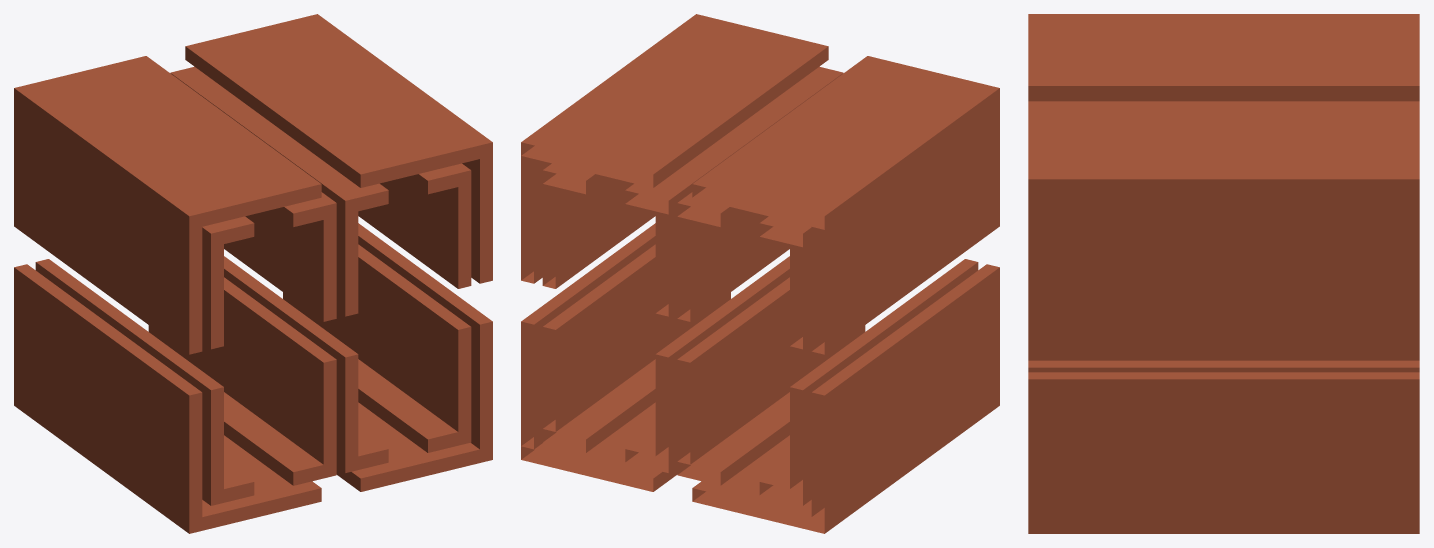
Rendered from construction_1.glb.
3 renders of one model, left to right at view 1: azimuth 30°, elevation 25°; view 2: azimuth 150°, elevation 25°; view 3: azimuth 270°, elevation 25°, orthographic. The views are drawn at different scales.
Parts seen in each view (by area): view 1: c1; view 2: c1; view 3: c1.
Boxes of the visible parts, bbox=[...] form: c1: bbox=[14, 14, 492, 533]; c1: bbox=[521, 14, 999, 533]; c1: bbox=[1028, 14, 1419, 533].
Size of the model in its own units: 14 by 14 by 14.
